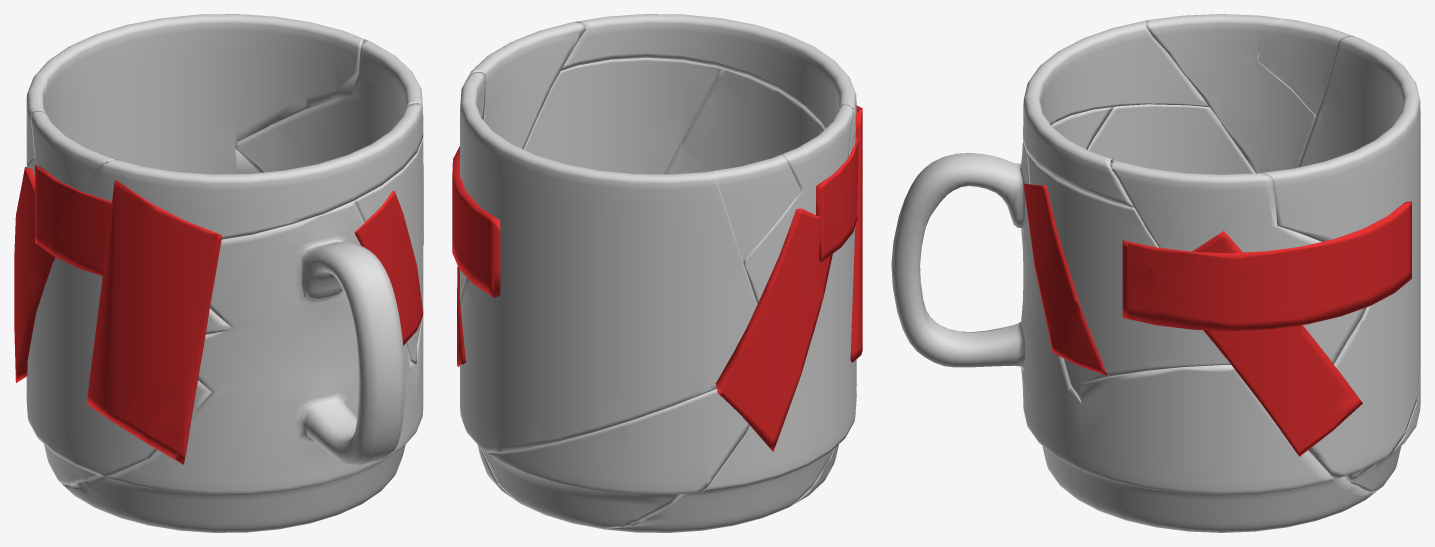
The model's file is bantliKupa.fbx.
The picture shows the model from 3 angles, left to right: view 1: azimuth 30°, elevation 25°; view 2: azimuth 150°, elevation 25°; view 3: azimuth 270°, elevation 25°; orthographic projection.
Parts seen in each view (by area): view 1: mug_body_.018, mug_body_.019; view 2: mug_body_.018, mug_body_.019; view 3: mug_body_.018, mug_body_.019.
Part boxes in pixels (left/top/right/bottom): mug_body_.018: left=26, top=14, right=423, bottom=532; mug_body_.019: left=14, top=165, right=423, bottom=464; mug_body_.018: left=460, top=14, right=856, bottom=532; mug_body_.019: left=452, top=105, right=862, bottom=451; mug_body_.018: left=891, top=14, right=1420, bottom=532; mug_body_.019: left=1023, top=183, right=1411, bottom=456.
Size of the model in its own units: 127 by 126 by 165.
